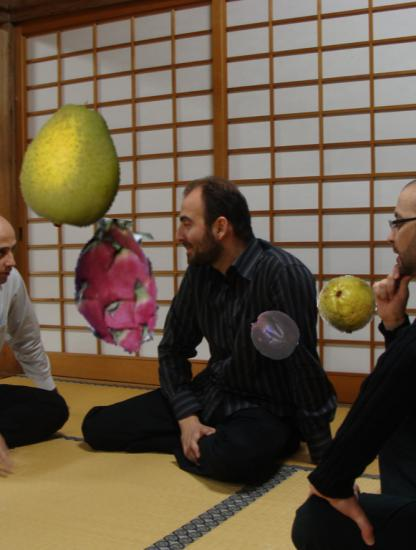Guava: (317, 275, 377, 335)
Passion: (249, 309, 301, 361)
Pear: (9, 99, 139, 229)
Pitahaya: (51, 220, 184, 353)
